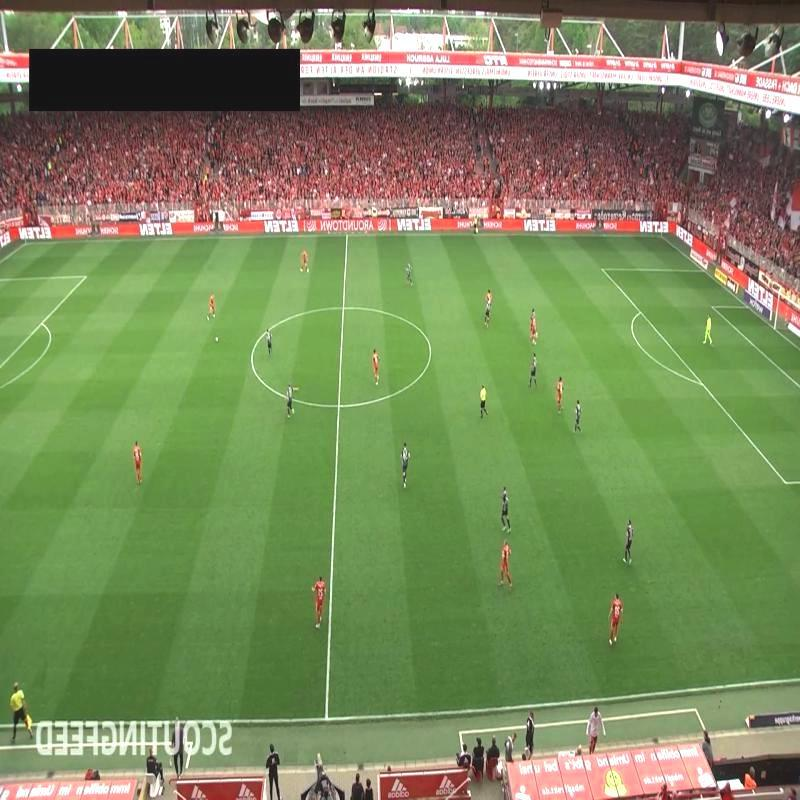1: (18, 237, 33, 254), (653, 230, 667, 244)
10: (32, 314, 51, 332), (632, 302, 648, 322)
11: (695, 374, 711, 394)
12: (776, 474, 796, 490)
13: (340, 228, 354, 242)
14: (336, 300, 350, 314)
15: (332, 398, 346, 412)
16: (314, 708, 338, 731)
2: (698, 264, 712, 278)
3: (741, 300, 755, 314)
7: (706, 301, 720, 314)
9: (593, 262, 611, 276), (78, 269, 92, 283)
c: (244, 350, 260, 362), (424, 347, 438, 360)
